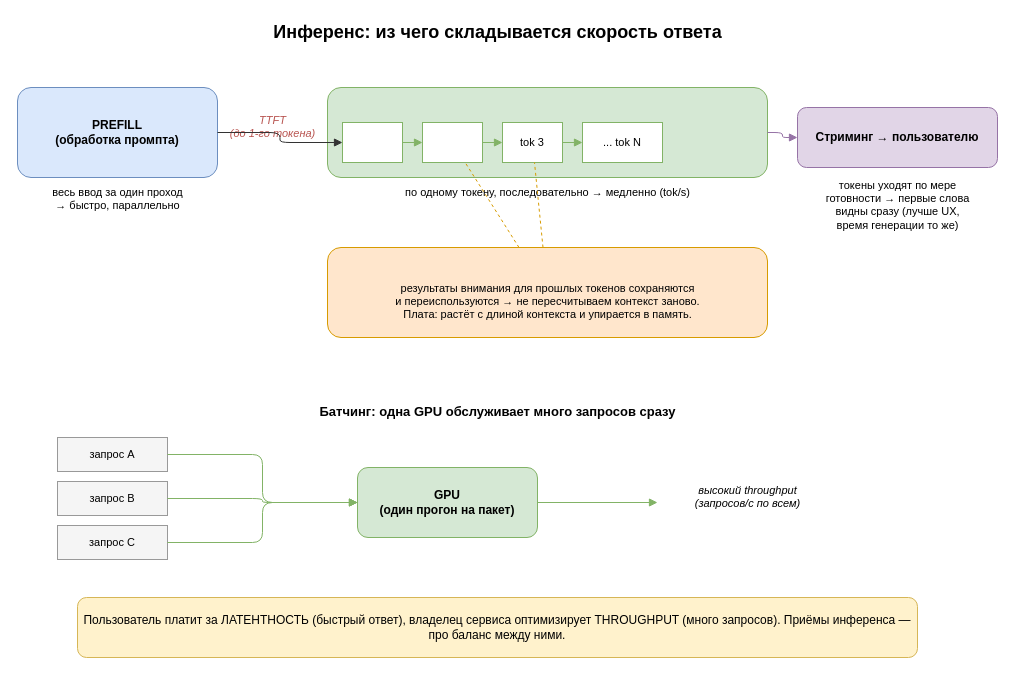
Some shapes in this 1015 by 675 pixel diagram are drawn without their labels. Here are the shapes that lost their labels. From the top down, the box of each, then its label:
(342, 122, 402, 162): tok 1
(422, 122, 482, 162): tok 2
(326, 86, 768, 178): DECODE (генерация)
(326, 246, 768, 338): KV cache
